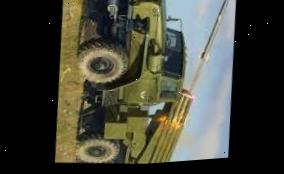rszo: (62, 0, 213, 169)
